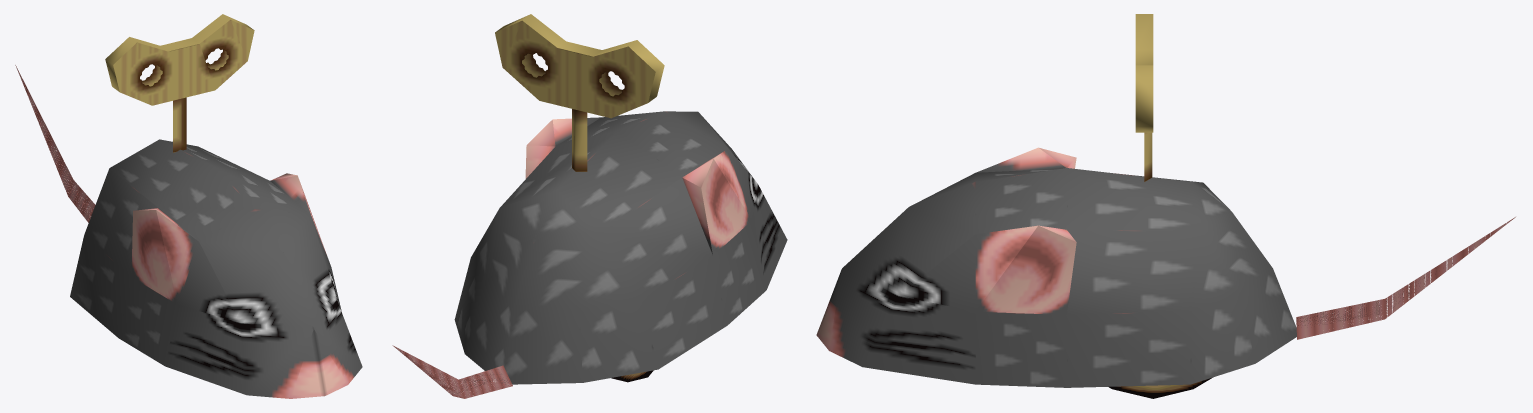
Rendered from mouse_small.obj.
The picture shows the model from 3 angles, left to right: view 1: azimuth 30°, elevation 25°; view 2: azimuth 150°, elevation 25°; view 3: azimuth 270°, elevation 25°; orthographic projection. The views are drawn at different scales.
Visible parts, largest first — view 1: geometry_04; view 2: geometry_04; view 3: geometry_04.
Boxes of the visible parts, left/top/right/bottom form: geometry_04: left=15, top=14, right=362, bottom=398; geometry_04: left=392, top=14, right=787, bottom=398; geometry_04: left=816, top=14, right=1515, bottom=398.
Size of the model in its own units: 22.86 by 32.76 by 64.35.
1 material, 1 textured.
